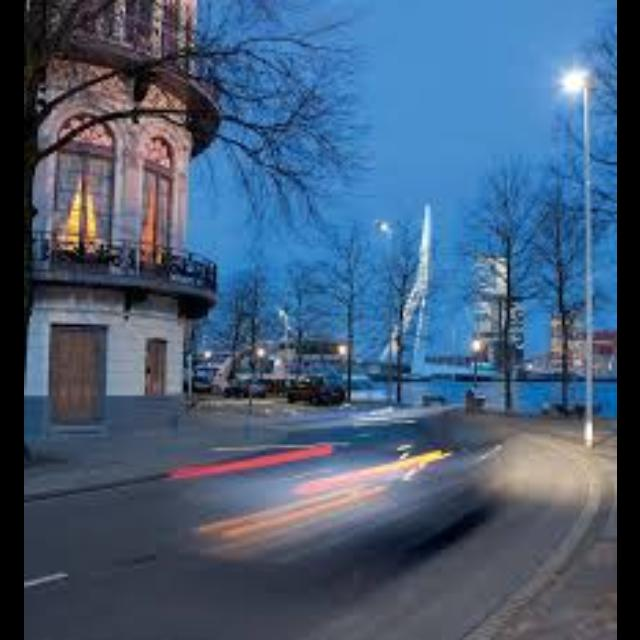Street-Lamp: (548, 63, 612, 445)
